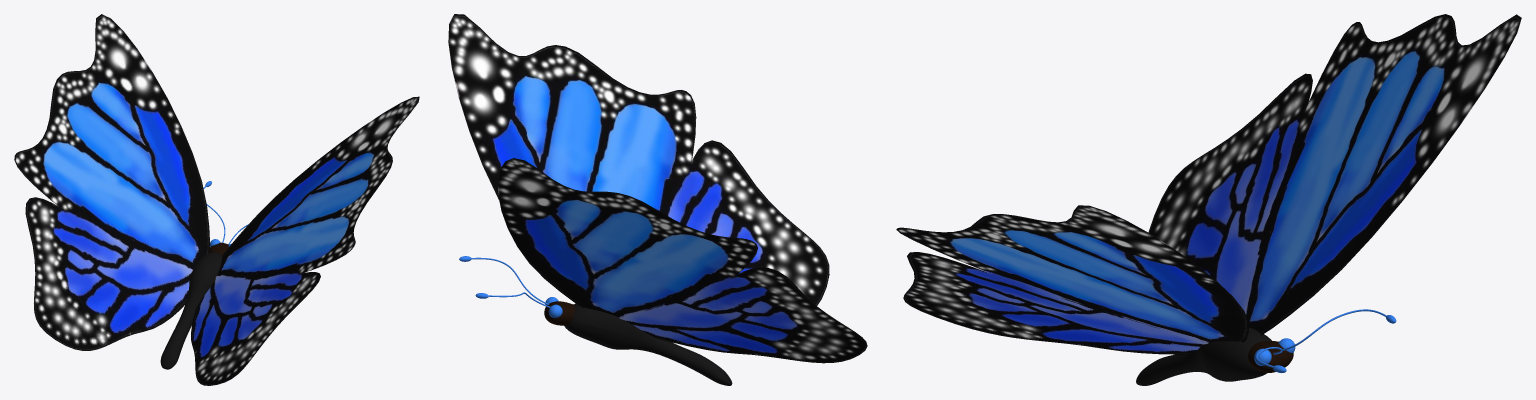
Rendered from butterfly.FBX.
The picture shows the model from 3 angles, left to right: view 1: azimuth 30°, elevation 25°; view 2: azimuth 150°, elevation 25°; view 3: azimuth 270°, elevation 25°; orthographic projection. The views are drawn at different scales.
Visible parts, largest first — view 1: Line15, Line14, Line15.Line11, Line14.Line16, Line17; view 2: Line15.Line11, Line15, Line14, Line14.Line16, Line17, Line12; view 3: Line15, Line15.Line11, Line14, Line14.Line16, Line17, Line12.
Boxes of the visible parts, <box> form: Line15: <box>14,14,209,271</box>; Line14: <box>25,197,191,350</box>; Line15.Line11: <box>215,96,419,286</box>; Line14.Line16: <box>191,272,320,385</box>; Line17: <box>160,252,222,369</box>; Line15.Line11: <box>448,14,696,220</box>; Line15: <box>497,158,757,317</box>; Line14: <box>619,267,867,363</box>; Line14.Line16: <box>677,140,829,305</box>; Line17: <box>564,303,732,385</box>; Line12: <box>544,301,575,325</box>; Line15: <box>1241,14,1521,335</box>; Line15.Line11: <box>896,205,1248,342</box>; Line14: <box>1148,73,1312,305</box>; Line14.Line16: <box>903,252,1209,354</box>; Line17: <box>1136,327,1271,385</box>; Line12: <box>1248,341,1293,372</box>.
Size of what is drawn, in the model's own units: 762 by 522 by 725.
Materials: 7 (4 with a texture image).
